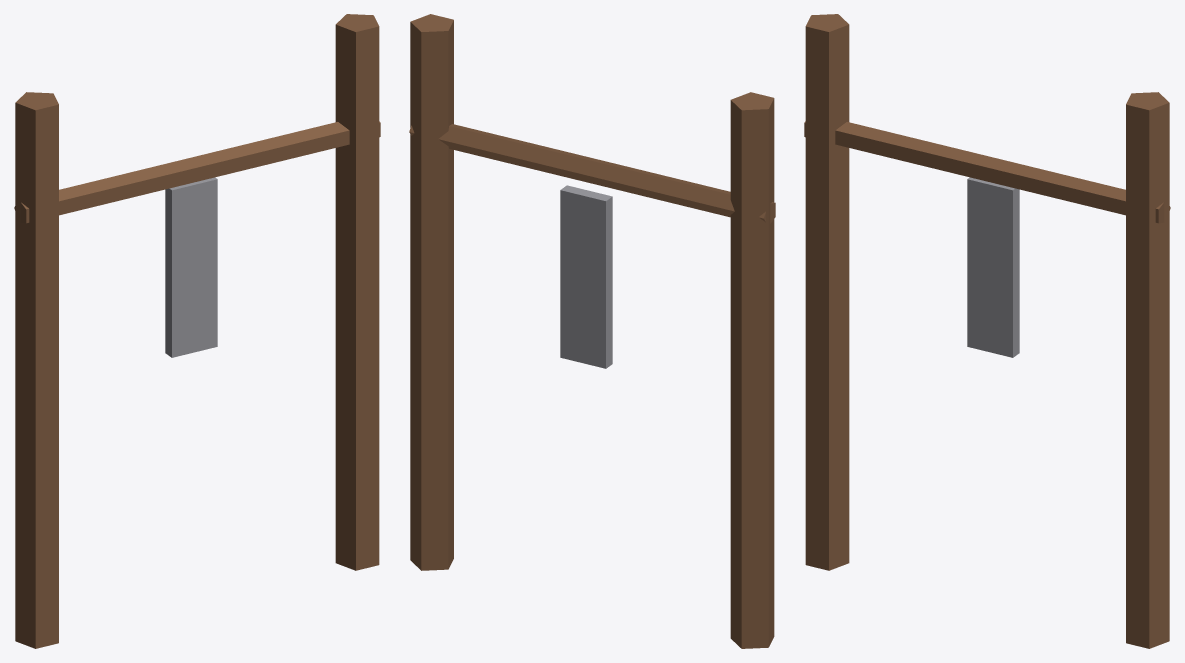
Rendered from weapon_rack.glb.
3 views of the same model, side by side, from view 1: azimuth 30°, elevation 25°; view 2: azimuth 150°, elevation 25°; view 3: azimuth 330°, elevation 25° (orthographic).
Parts seen in each view (by area): view 1: weapon_rack; view 2: weapon_rack; view 3: weapon_rack.
Part boxes in pixels (x1,y1,x2,y2): weapon_rack: [14, 14, 380, 648]; weapon_rack: [409, 14, 775, 648]; weapon_rack: [804, 14, 1170, 648].
Bounding box in the file's own units: 0.6266 × 0.9 × 0.0633.
